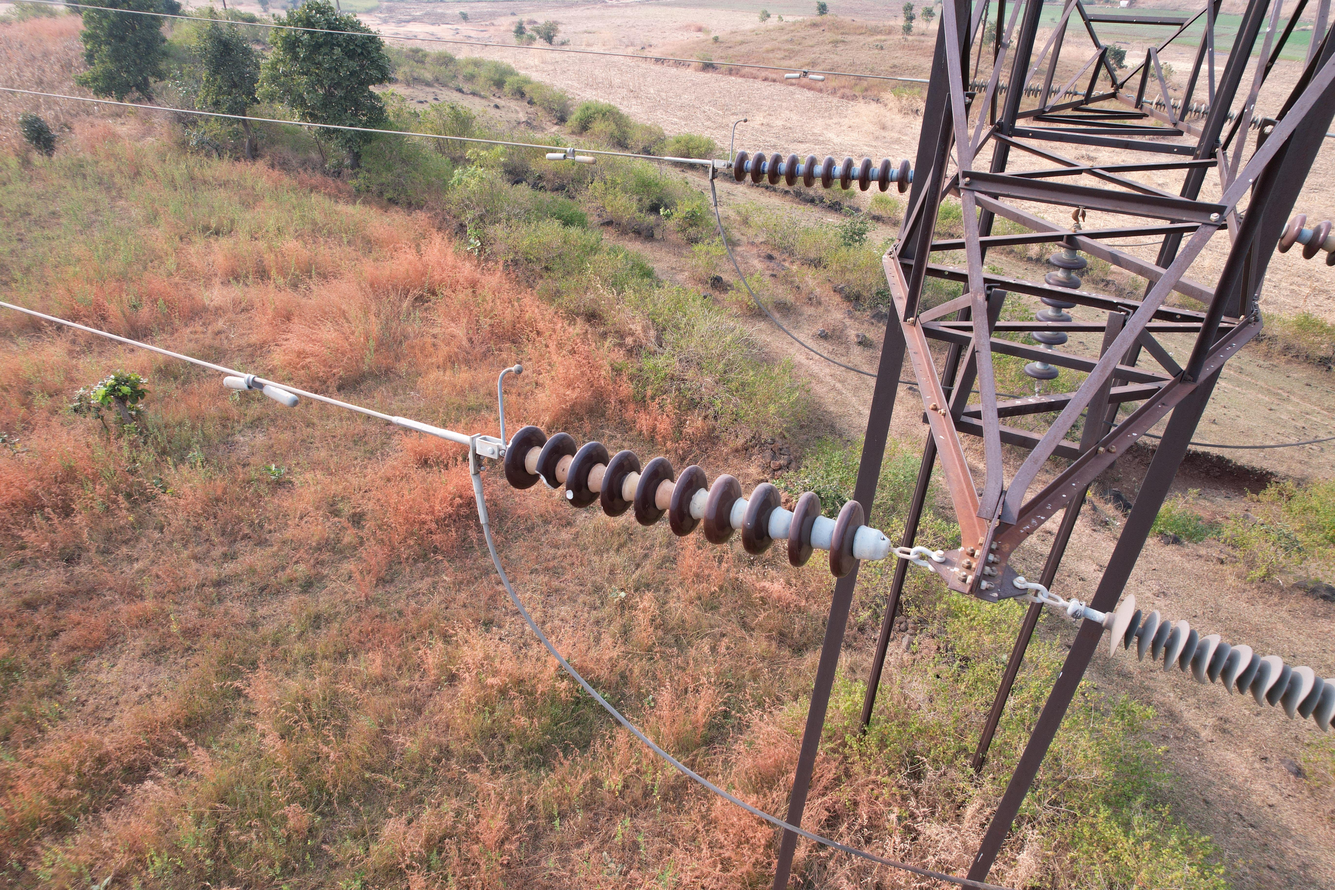broken_insulator: (565, 440, 599, 510), (531, 430, 568, 494)
